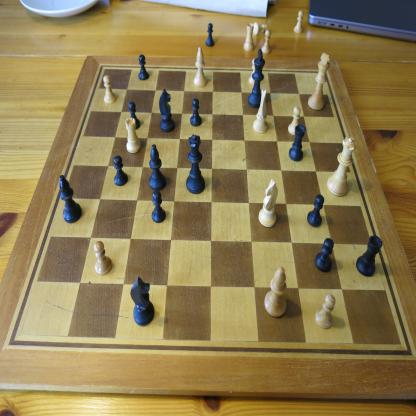black-bishop: (59, 174, 82, 224), (148, 144, 166, 191)
black-king: (247, 48, 266, 109)
black-knight: (130, 276, 155, 326), (159, 88, 175, 132)
black-pawn: (314, 237, 334, 273), (306, 194, 324, 228), (151, 190, 166, 224), (113, 155, 128, 187), (190, 98, 202, 127), (128, 101, 140, 130), (138, 54, 149, 80), (205, 22, 215, 48)
black-queen: (186, 134, 205, 194)
black-rook: (356, 235, 383, 278), (288, 124, 306, 162)
white-bishop: (264, 266, 287, 318), (193, 47, 207, 88)
white-king: (307, 52, 330, 111)
white-knight: (258, 178, 278, 228), (253, 88, 268, 134)
white-pawn: (314, 294, 336, 329), (93, 240, 113, 276), (287, 106, 301, 136), (102, 75, 116, 104), (293, 10, 304, 34), (261, 29, 271, 54), (252, 22, 268, 36), (248, 58, 256, 86)
white-queen: (326, 136, 358, 197)
white-rook: (125, 117, 141, 154), (243, 23, 254, 52)
